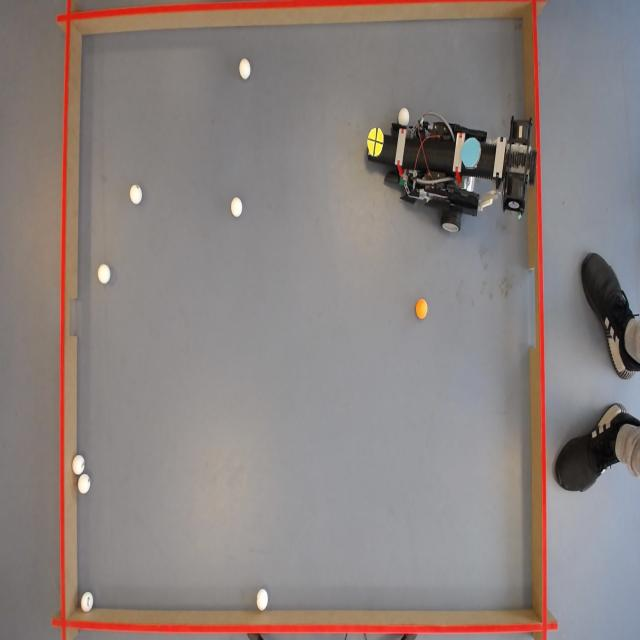orange: (416, 300, 430, 320)
robot: (361, 111, 535, 229)
robot-front: (368, 128, 385, 160)
robot-rear: (460, 135, 481, 170)
white: (255, 589, 269, 612), (239, 58, 253, 80), (98, 264, 112, 286), (130, 183, 144, 205), (72, 453, 86, 474), (80, 592, 94, 613), (77, 475, 90, 496), (232, 197, 244, 218), (397, 107, 410, 125)
